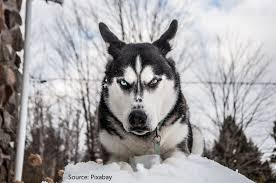dog: (115, 73, 167, 135)
